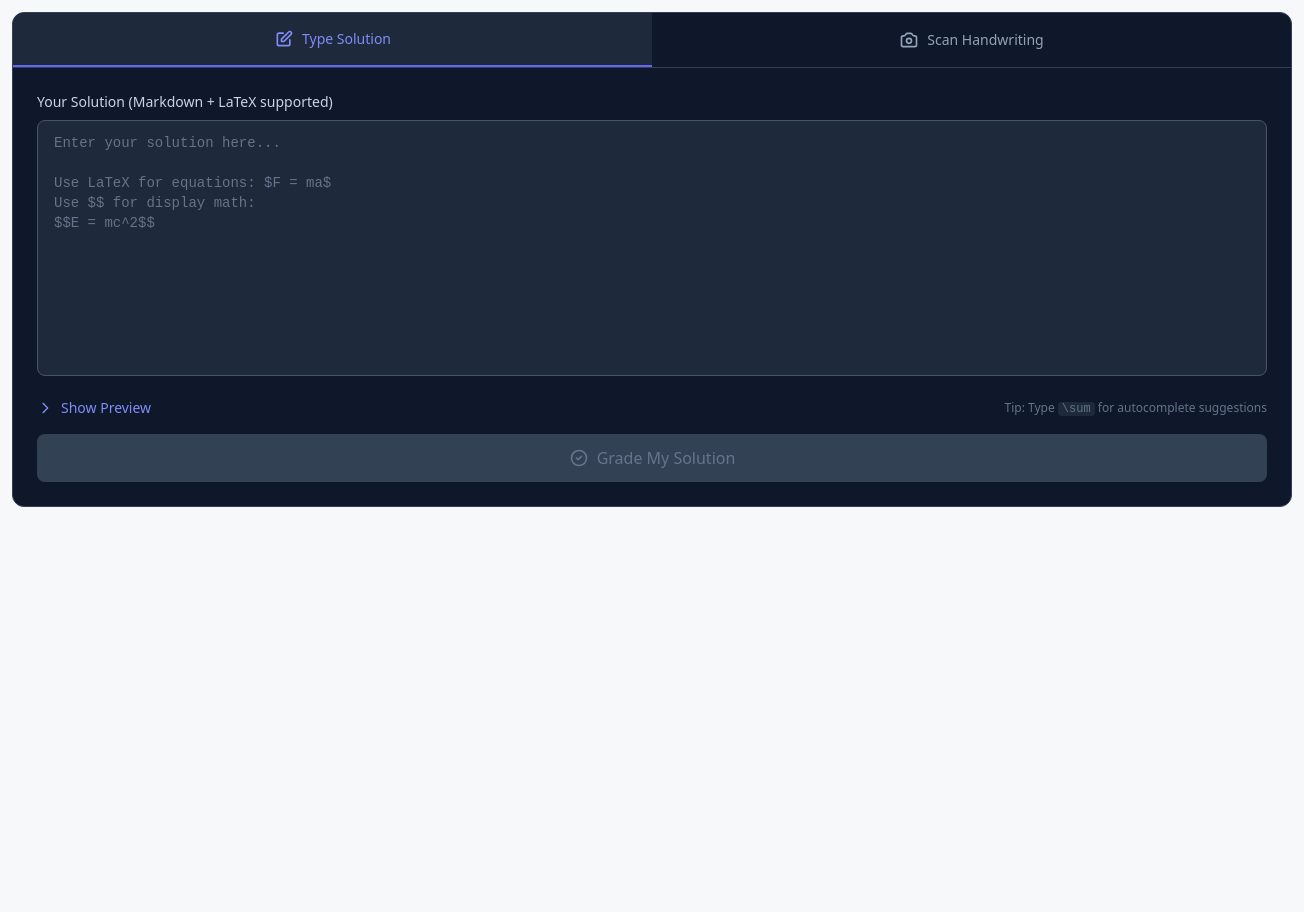
SubmissionCanvas - ConstraintFeedback Integration › rendering ConstraintFeedback › does not display ConstraintFeedback when grade result has no collisions
The width and height of the screenshot is (1304, 912).
Replace the text in the text box with placeholder "Enter your solution here" with "F = ma, solved correctly" at (652, 248), box [37,120,1267,376]
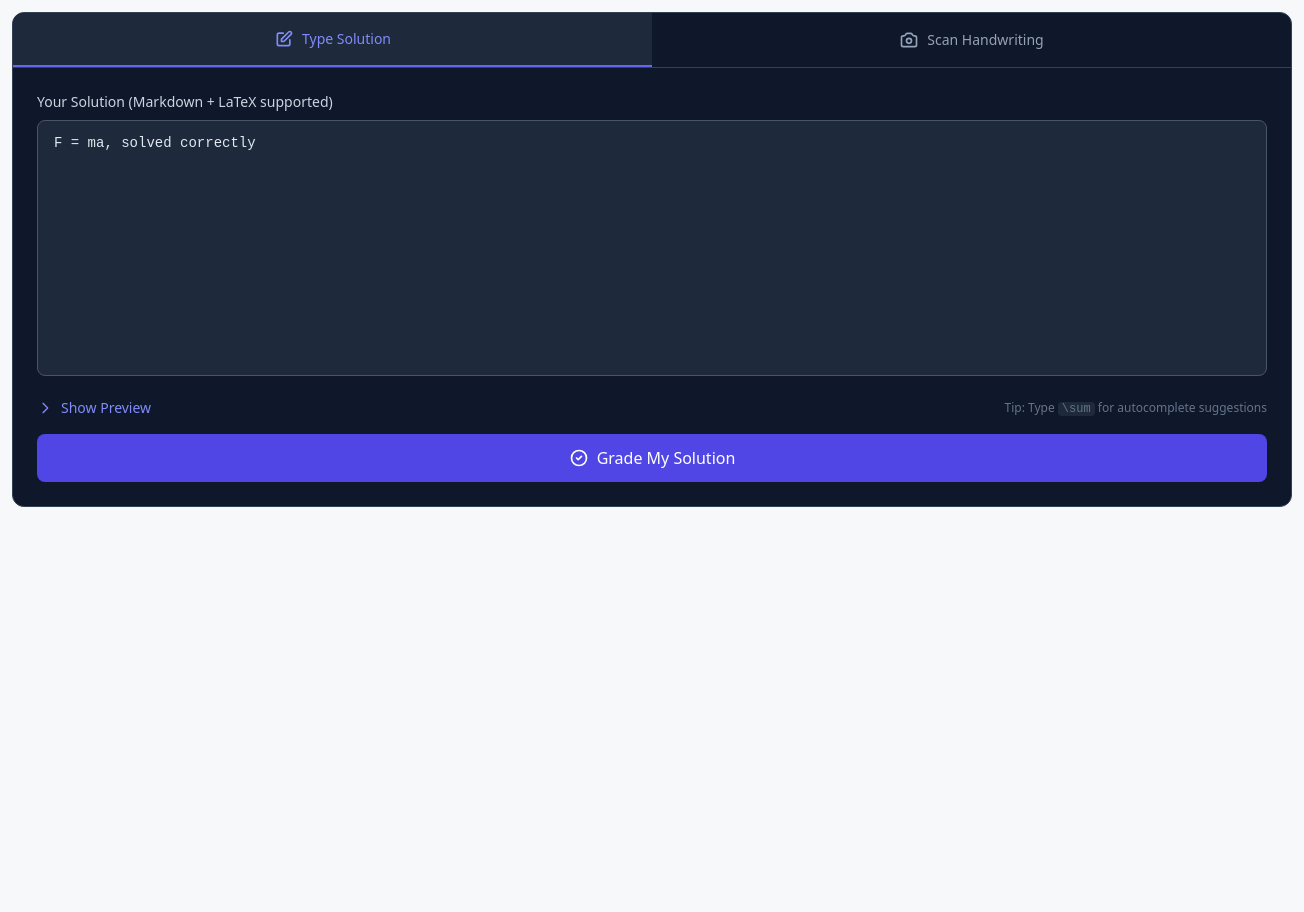
Click the button "Grade My Solution".
click(652, 458)  # box [37,434,1267,482]
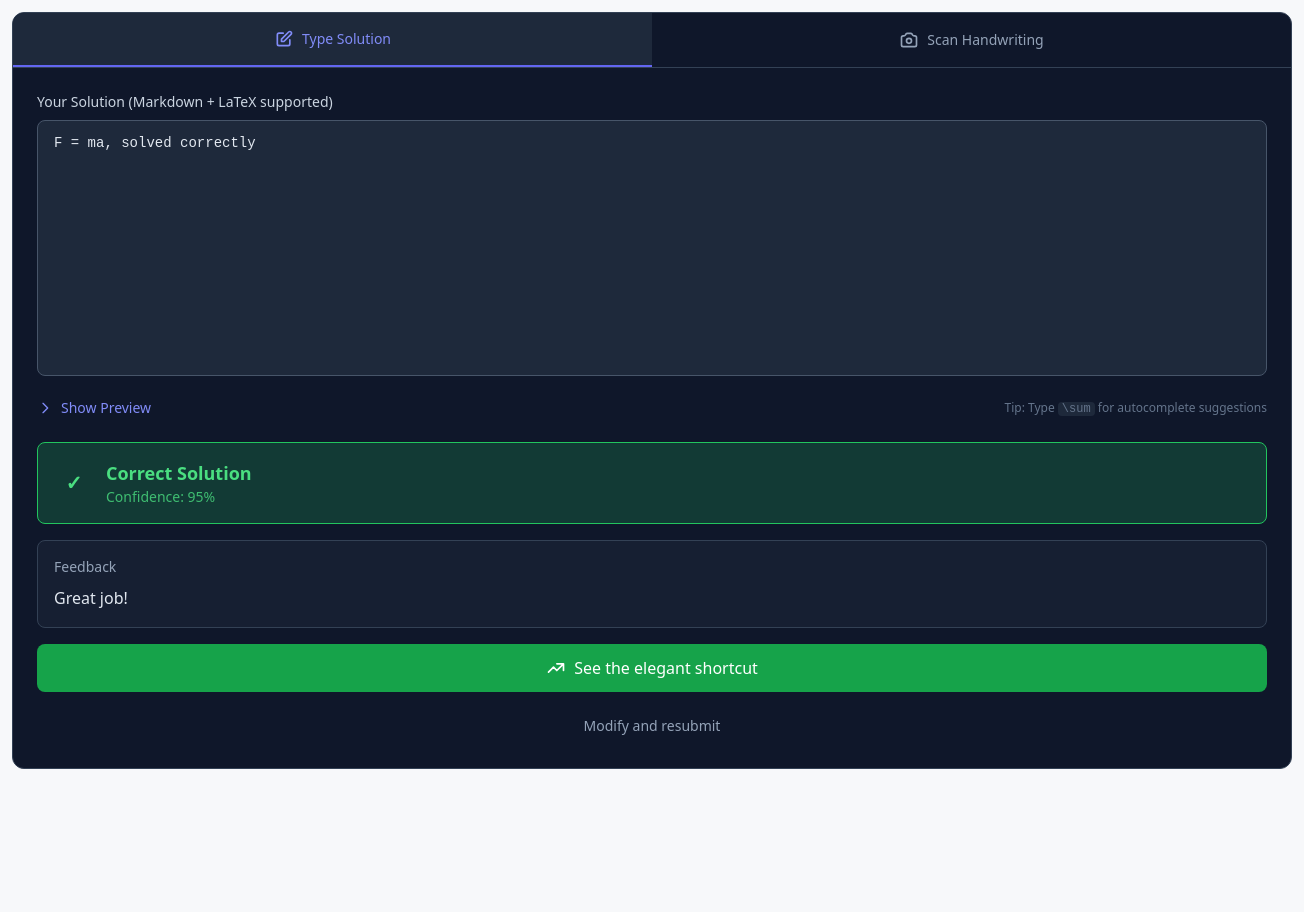
Result: the text "Great job!" is shown at [54,587,128,609]
